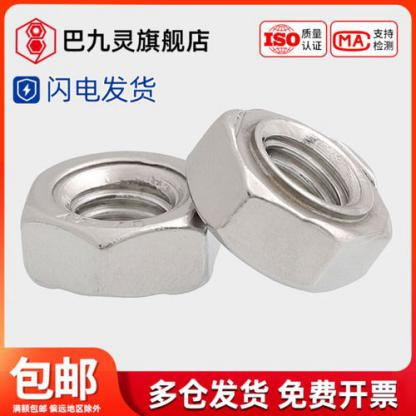FOD: (183, 104, 395, 295), (19, 149, 223, 297)
